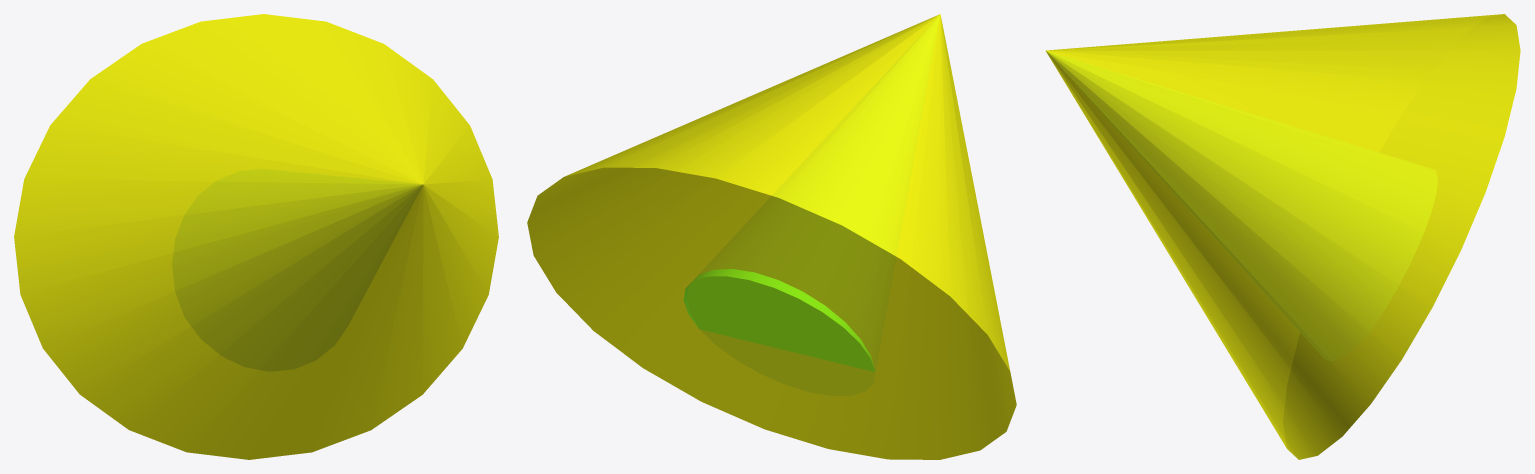
File: Viewing_Cone.dae
The picture shows the model from 3 angles, left to right: view 1: azimuth 30°, elevation 25°; view 2: azimuth 150°, elevation 25°; view 3: azimuth 270°, elevation 25°; orthographic projection. The views are drawn at different scales.
Parts seen in each view (by area): view 1: group_1; view 2: group_1, group_0; view 3: group_1.
Part boxes in pixels (x1=…): group_1: x1=14, y1=14, x2=498, y2=459; group_1: x1=527, y1=14, x2=1016, y2=459; group_0: x1=683, y1=269, x2=875, y2=372; group_1: x1=1045, y1=14, x2=1520, y2=459.
Bounding box in the file's own units: 55.13 × 45.01 × 38.98.
